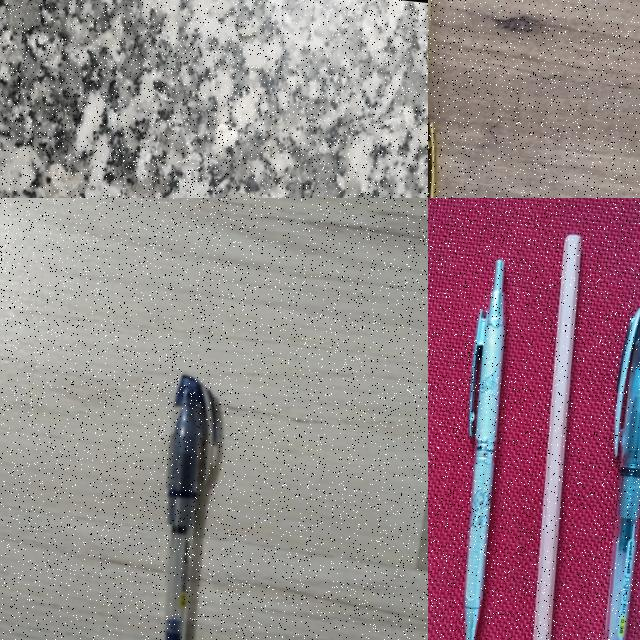pen: (441, 252, 519, 640), (583, 291, 640, 640), (164, 374, 217, 640)
pencil: (507, 232, 597, 640)
signature pen: (428, 122, 436, 197)
